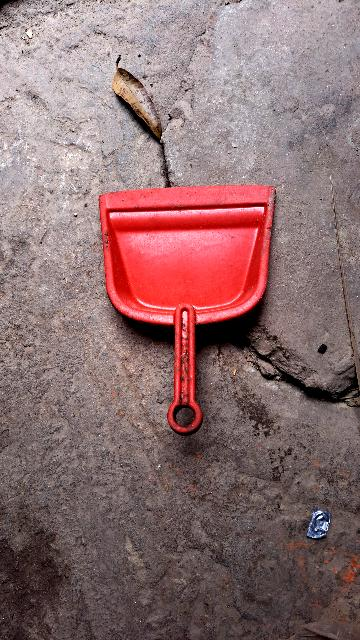hardplastic: (93, 184, 279, 436)
